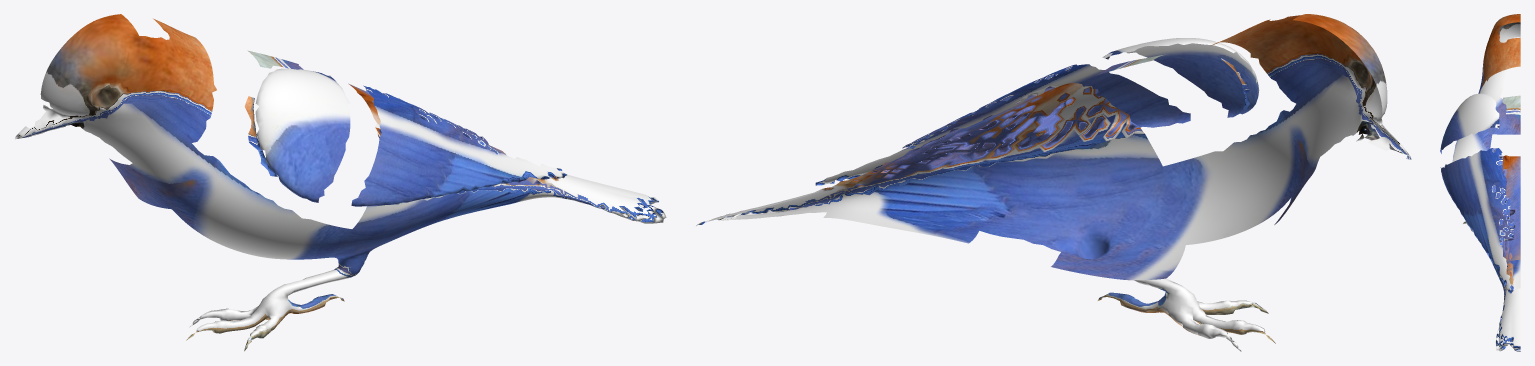
File: bird.glb
3 renders of one model, left to right at view 1: azimuth 30°, elevation 25°; view 2: azimuth 150°, elevation 25°; view 3: azimuth 270°, elevation 25°, orthographic. The views are drawn at different scales.
Parts seen in each view (by area): view 1: m0; view 2: m0; view 3: m0.
Part boxes in pixels (x1,y1,x2,y2): m0: (15,14,666,351); m0: (695,14,1411,351); m0: (1440,14,1520,351).
Bounding box in the file's own units: 0.5 × 0.239 × 0.0949.
Materials: 1 (1 with a texture image).
